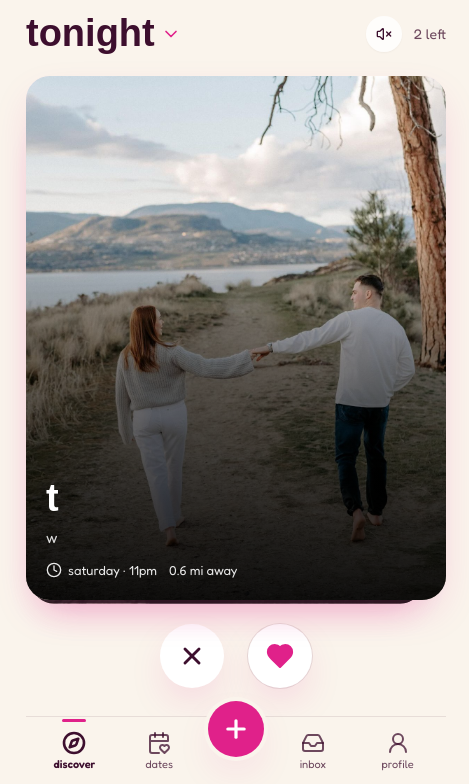
Test: SwipeDeck — teaser mode for pre-verification viewers (launch F1) › pass tap advances locally without recording a swipe (keep browsing)
The width and height of the screenshot is (469, 784).
Step 1. Click the button named "nope" → (192, 656), box [160,624,224,688]
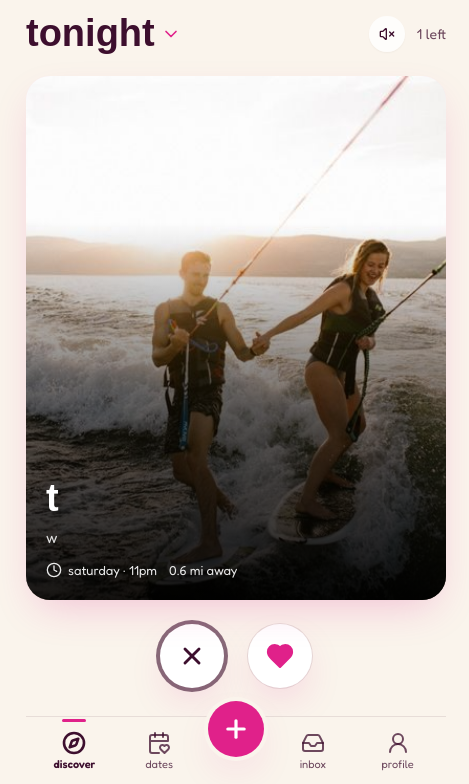
Result: the text "1 left" is shown at [417,23,446,44]
